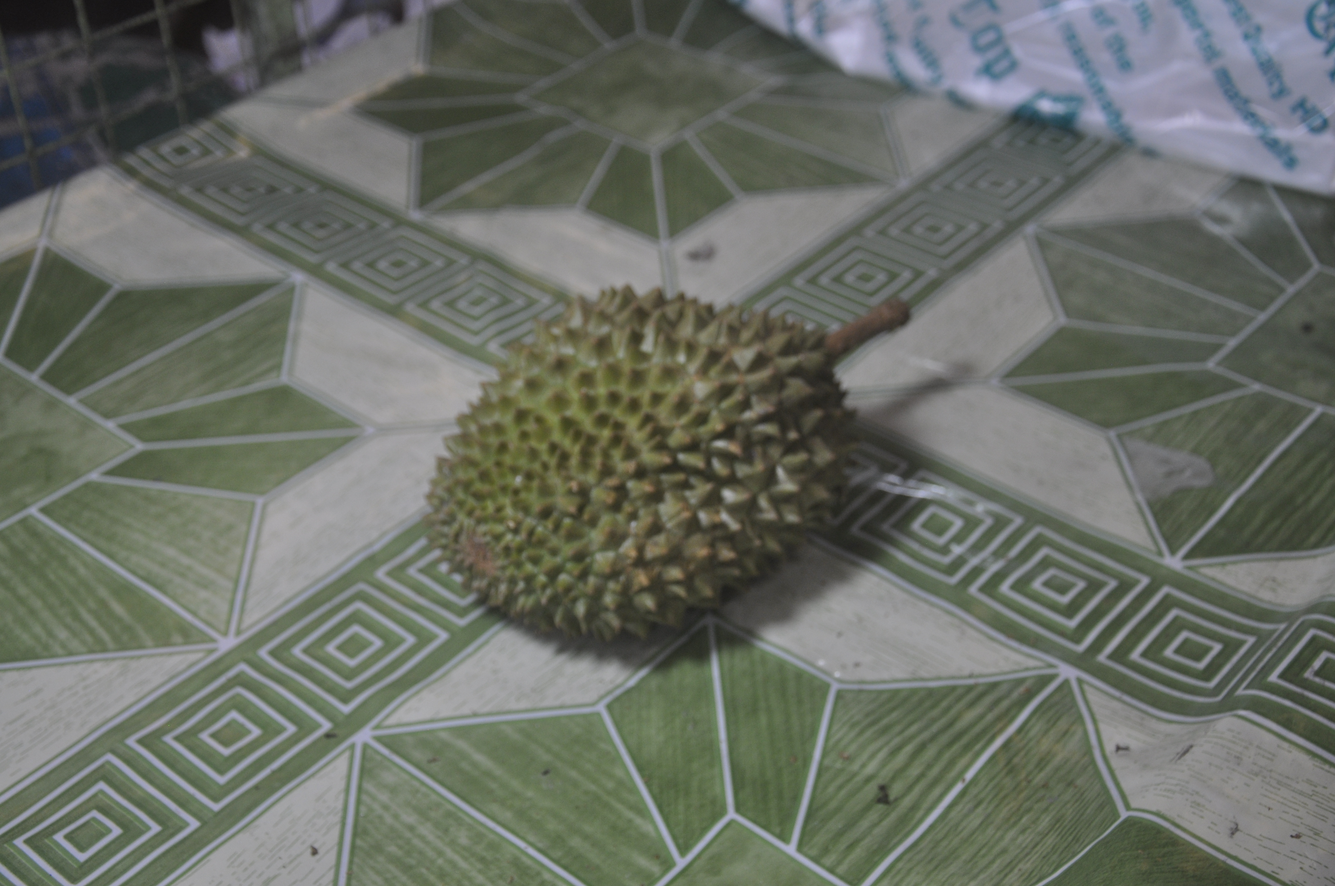mature: (427, 286, 909, 639)
